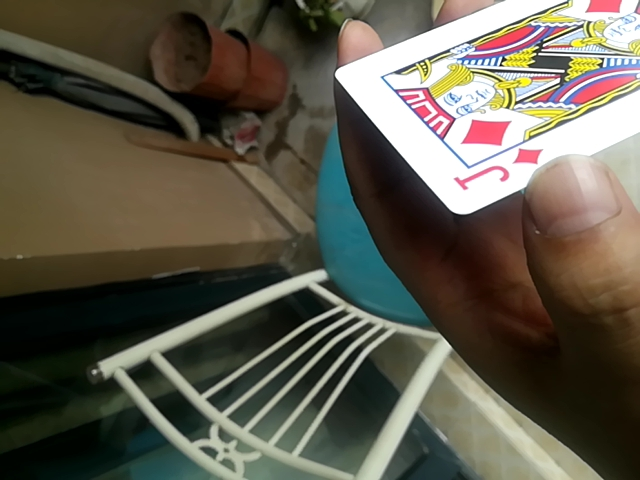fk j: (333, 2, 636, 220)
